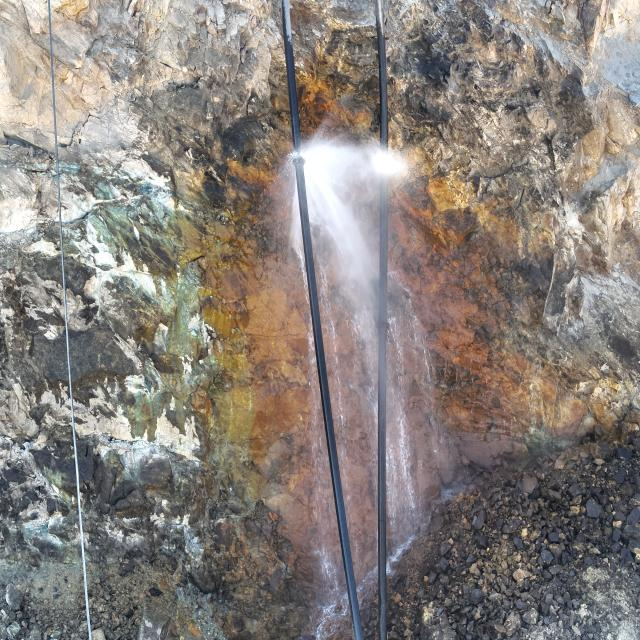leak: (260, 114, 440, 640)
